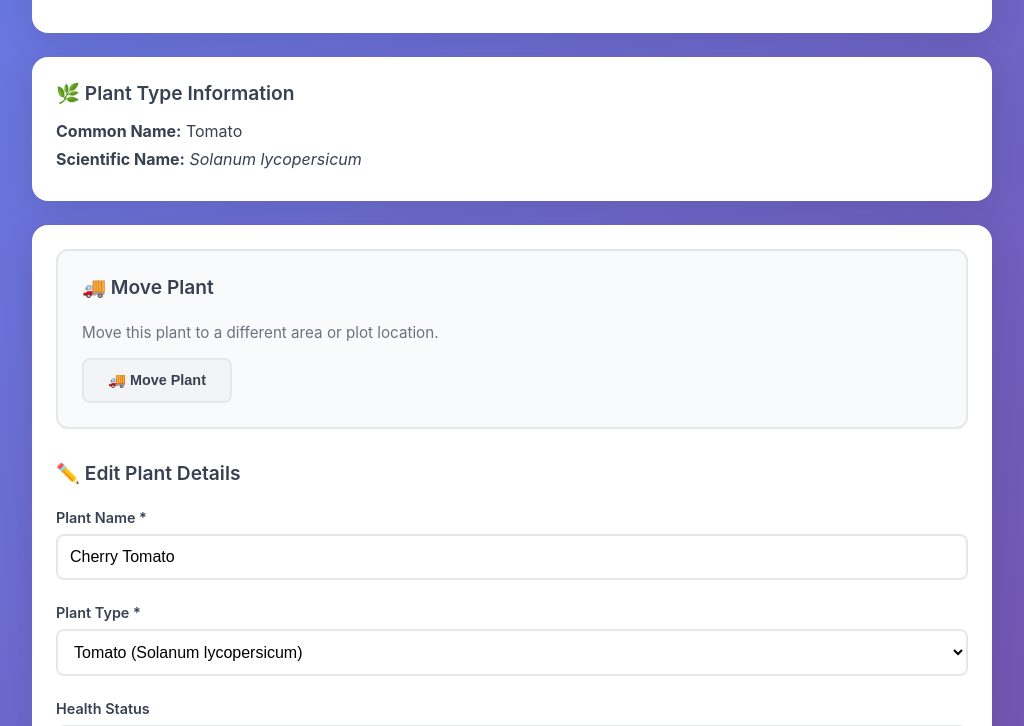
Scenario: PlantDetails › prevents moving to occupied position
(page scrolled)
Expected: the field showing "Cherry Tomato" is shown, [56,534,968,580]
// Open move dialog
Click the button with test id "move-plant-button": (157, 380) [82,358,232,403]
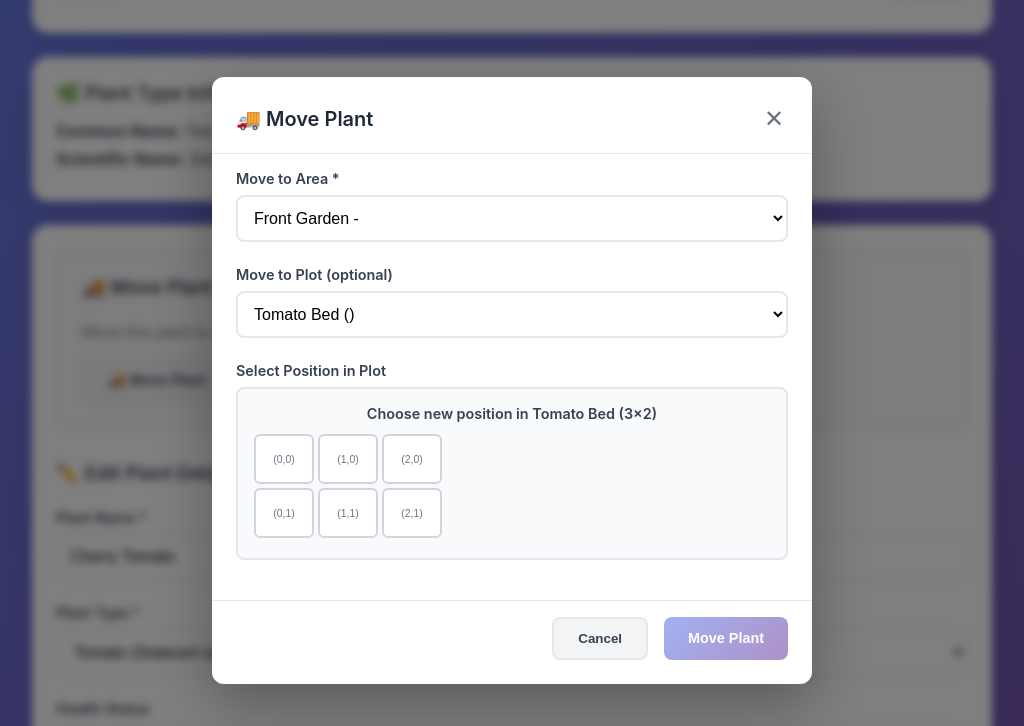
// Select different area and plot
Select "Back Garden -" in the dropdown labelled "Move to Area *": (512, 218) [236,194,788,242]
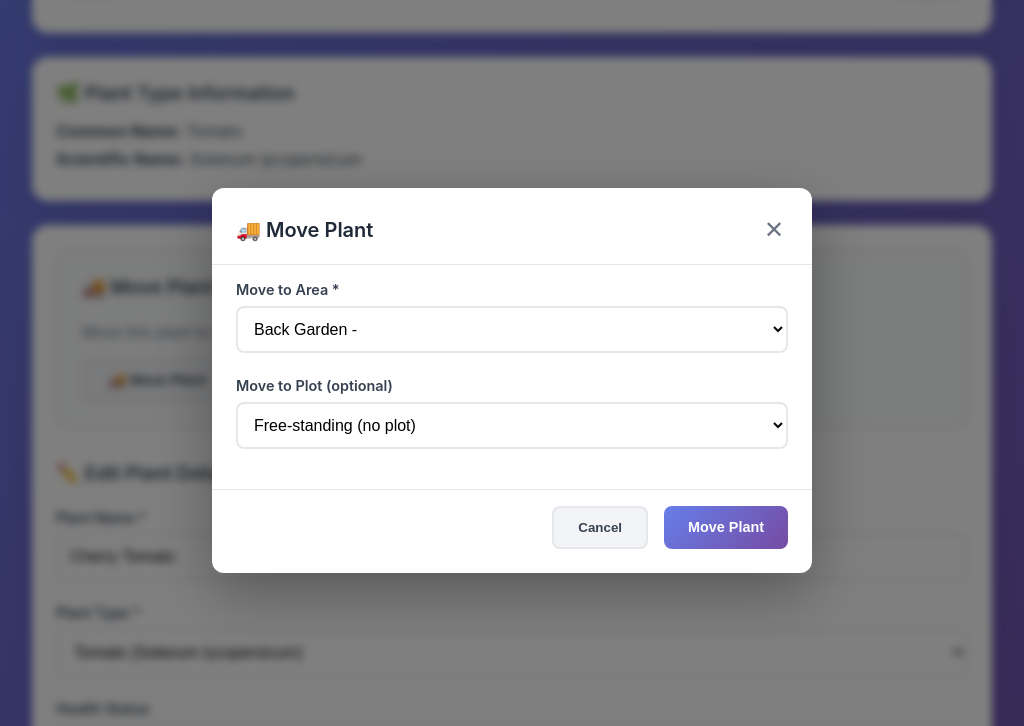
Select "Herb Row ()" in the dropdown labelled "Move to Plot (optional)": (512, 425) [236,402,788,448]
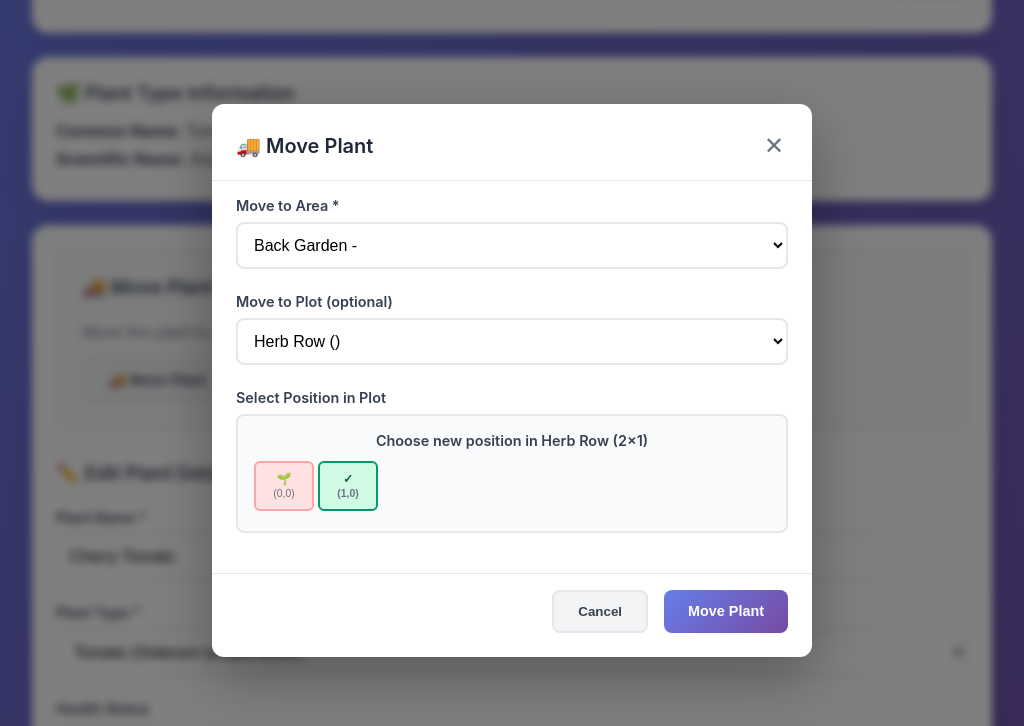
Now the button titled "Position occupied" is disabled, box [254,460,314,510]
